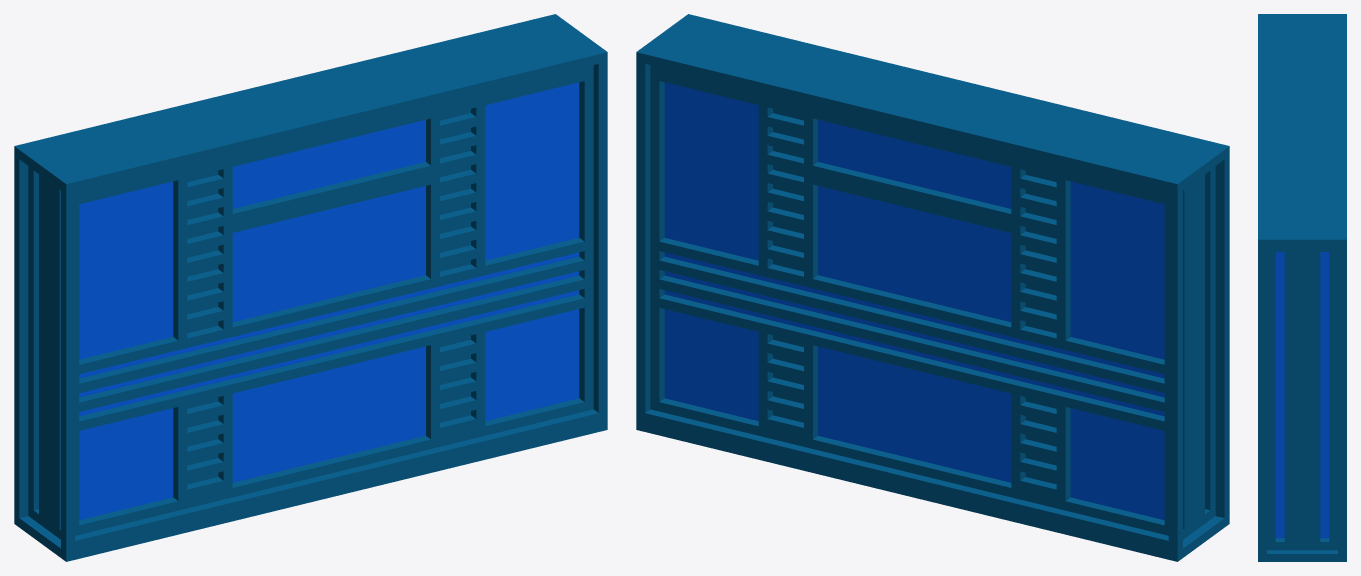
Rendered from Blue Wall 2.obj.
3 views of the same model, side by side, from view 1: azimuth 30°, elevation 25°; view 2: azimuth 150°, elevation 25°; view 3: azimuth 270°, elevation 25° (orthographic). The views are drawn at different scales.
Size of the model in its own units: 60 by 40 by 10.
1 material, 1 textured.
